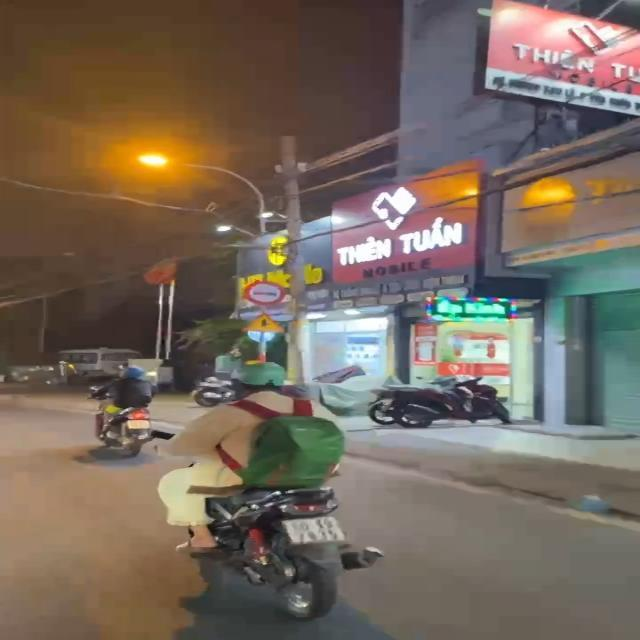125-cam-vuot: (243, 280, 286, 306)
207-giao-nhau-voi-duong-khong-uu-tien: (241, 310, 288, 333)
